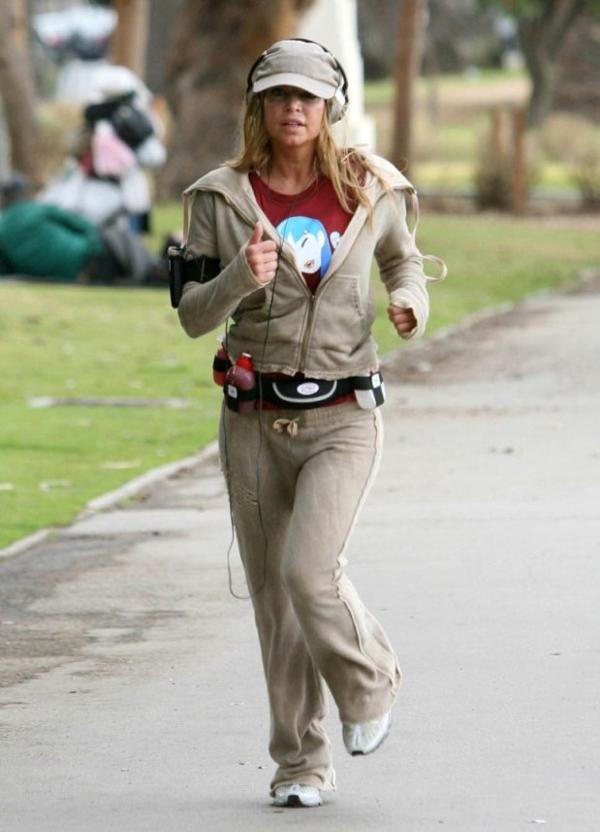person: (167, 36, 431, 800)
